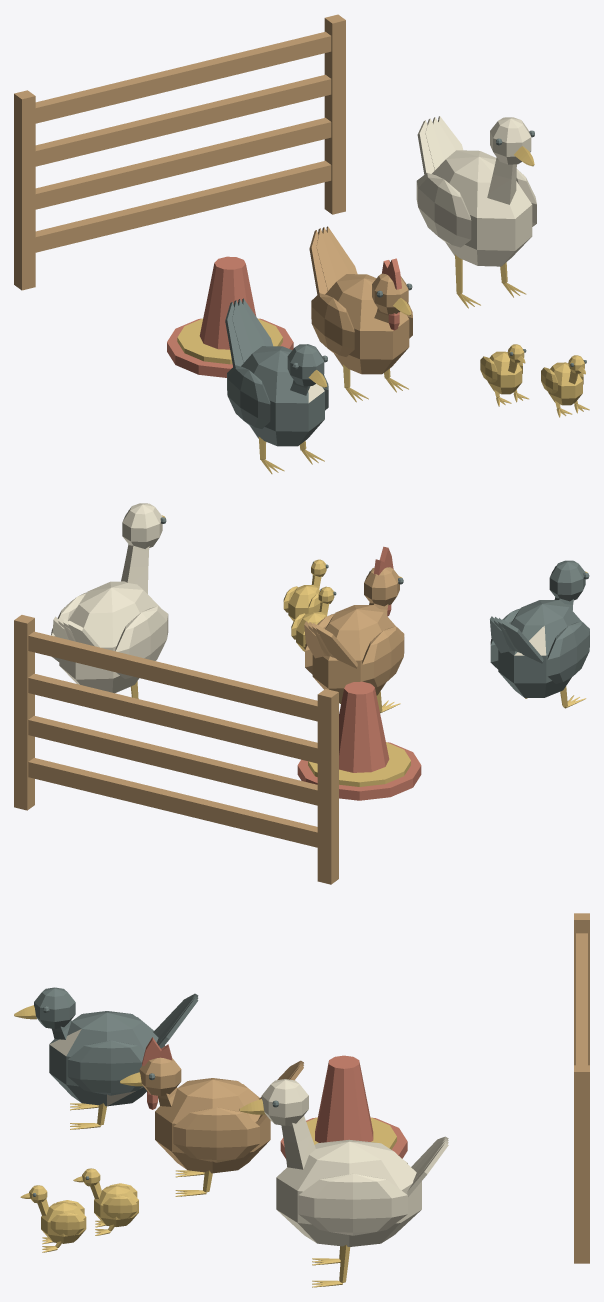
File: poultry-yard.glb
3 renders of one model, top to bottom at view 1: azimuth 30°, elevation 25°; view 2: azimuth 150°, elevation 25°; view 3: azimuth 270°, elevation 25°, orthographic. The views are drawn at different scales.
Parts seen in each view (by area): view 1: 006-sheep-hurdle/0, 004-goose/0, 003-guinea-fowl/0, 000-rooster/0, 005-chicken-feeder/0, 001-chick/0, 002-chick/0, 005-chicken-feeder/1, 004-goose/2, 000-rooster/2, 003-guinea-fowl/2; view 2: 006-sheep-hurdle/0, 004-goose/0, 003-guinea-fowl/0, 000-rooster/0, 005-chicken-feeder/0, 005-chicken-feeder/1, 002-chick/0, 001-chick/0; view 3: 004-goose/0, 000-rooster/0, 003-guinea-fowl/0, 006-sheep-hurdle/0, 005-chicken-feeder/0, 002-chick/0, 001-chick/0, 004-goose/2, 000-rooster/2, 003-guinea-fowl/2, 005-chicken-feeder/1, 000-rooster/3 (+1 smaller).
Part boxes in pixels (<box>): 006-sheep-hurdle/0: <box>14,14,345,290</box>; 004-goose/0: <box>416,116,536,266</box>; 003-guinea-fowl/0: <box>225,298,328,446</box>; 000-rooster/0: <box>309,226,412,374</box>; 005-chicken-feeder/0: <box>167,256,293,377</box>; 001-chick/0: <box>480,344,528,406</box>; 002-chick/0: <box>541,355,589,417</box>; 005-chicken-feeder/1: <box>177,318,282,364</box>; 004-goose/2: <box>455,146,534,308</box>; 000-rooster/2: <box>343,298,411,402</box>; 003-guinea-fowl/2: <box>258,370,327,473</box>; 006-sheep-hurdle/0: <box>14,615,338,884</box>; 004-goose/0: <box>51,503,168,693</box>; 003-guinea-fowl/0: <box>490,560,589,697</box>; 000-rooster/0: <box>304,567,404,702</box>; 005-chicken-feeder/0: <box>297,681,421,800</box>; 005-chicken-feeder/1: <box>308,742,410,786</box>; 002-chick/0: <box>283,559,326,621</box>; 001-chick/0: <box>291,586,334,651</box>; 004-goose/0: <box>261,1079,448,1246</box>; 000-rooster/0: <box>139,1057,303,1173</box>; 003-guinea-fowl/0: <box>34,987,198,1106</box>; 006-sheep-hurdle/0: <box>574,913,589,1263</box>; 005-chicken-feeder/0: <box>280,1055,407,1159</box>; 002-chick/0: <box>20,1185,86,1252</box>; 001-chick/0: <box>73,1168,138,1235</box>; 004-goose/2: <box>239,1099,350,1287</box>; 000-rooster/2: <box>120,1072,212,1196</box>; 003-guinea-fowl/2: <box>14,1005,106,1129</box>; 005-chicken-feeder/1: <box>306,1117,396,1149</box>; 000-rooster/3: <box>142,1037,172,1109</box>.
Size of the model in its own units: 1.75 by 0.8089 by 2.18.
